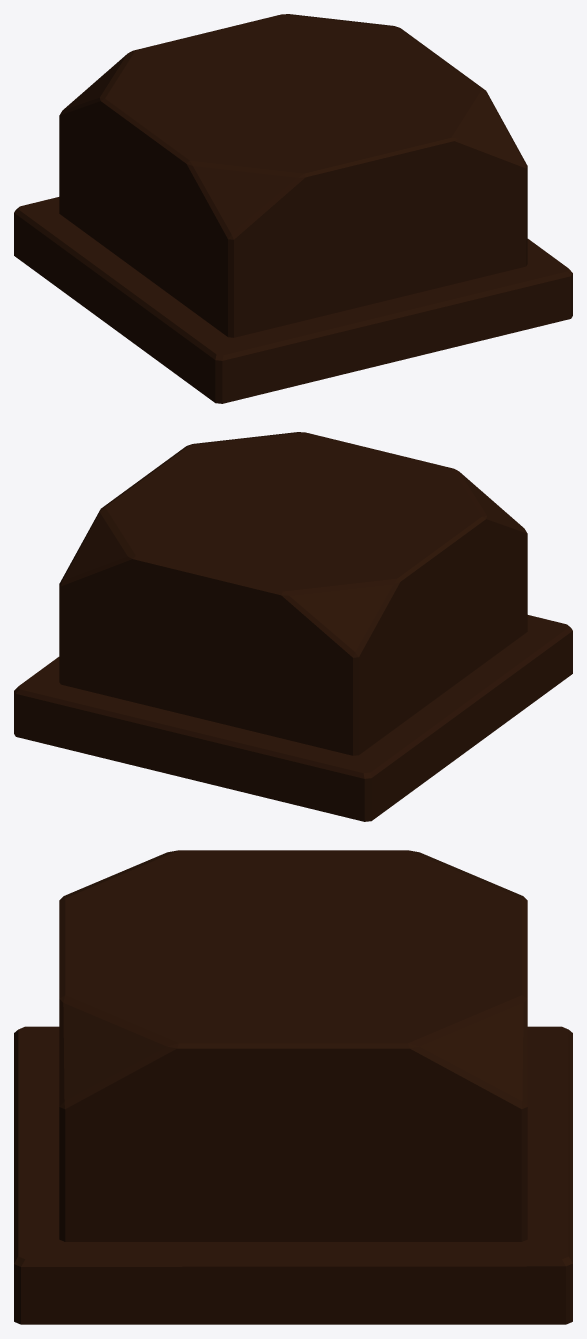
The model's file is copaEuropa_Basket_LOD0.FBX.
3 views of the same model, one above another, from view 1: azimuth 30°, elevation 25°; view 2: azimuth 150°, elevation 25°; view 3: azimuth 270°, elevation 25° (orthographic). The views are drawn at different scales.
Parts seen in each view (by area): view 1: peana; view 2: peana; view 3: peana.
Boxes of the visible parts, x1,y1,x2,y2 form: peana: (14, 14, 572, 403); peana: (14, 432, 572, 821); peana: (14, 850, 572, 1324).
Size of what is drawn, in the model's own units: 79.24 by 40.63 by 79.24.
